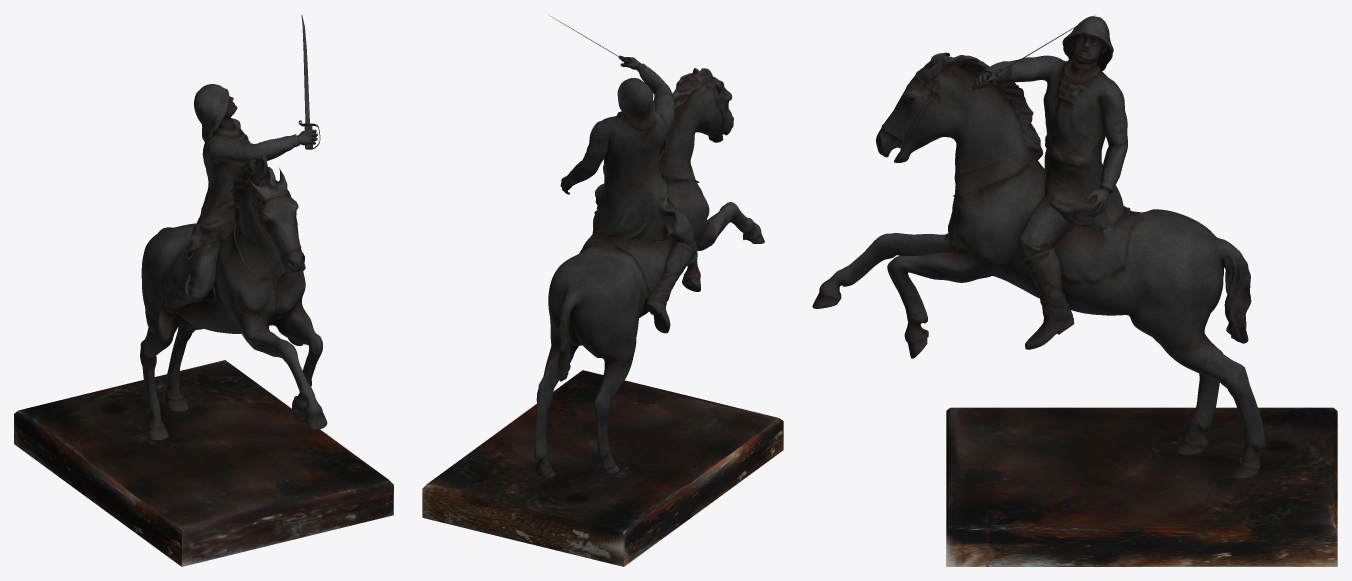
File: laidoner-ratsa.glb
3 views of the same model, side by side, from view 1: azimuth 30°, elevation 25°; view 2: azimuth 150°, elevation 25°; view 3: azimuth 270°, elevation 25° (orthographic). The views are drawn at different scales.
Visible parts, largest first — view 1: Mesh (3), Mesh; view 2: Mesh (3), Mesh; view 3: Mesh, Mesh (3).
Part boxes in pixels (x1,y1,x2,y2): Mesh (3): (14,360,393,566); Mesh: (140,14,327,440); Mesh (3): (422,370,783,566); Mesh: (534,16,764,478); Mesh: (812,14,1265,478); Mesh (3): (946,407,1337,566).
Bounding box in the file's own units: 1.73 × 3.58 × 3.17.
2 materials, 2 textured.
